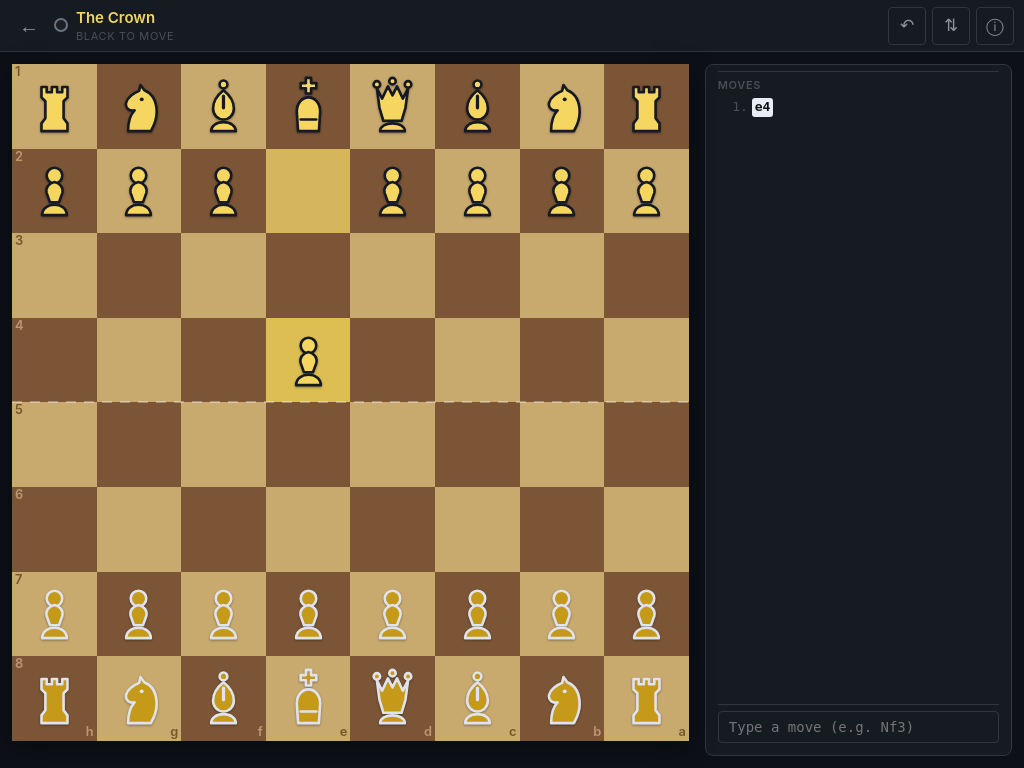
Test case: GameScreen resume and undo › undo takes back the last move and tells the app
Click the button with test id "undo-btn": (907, 26) [888,6,926,44]
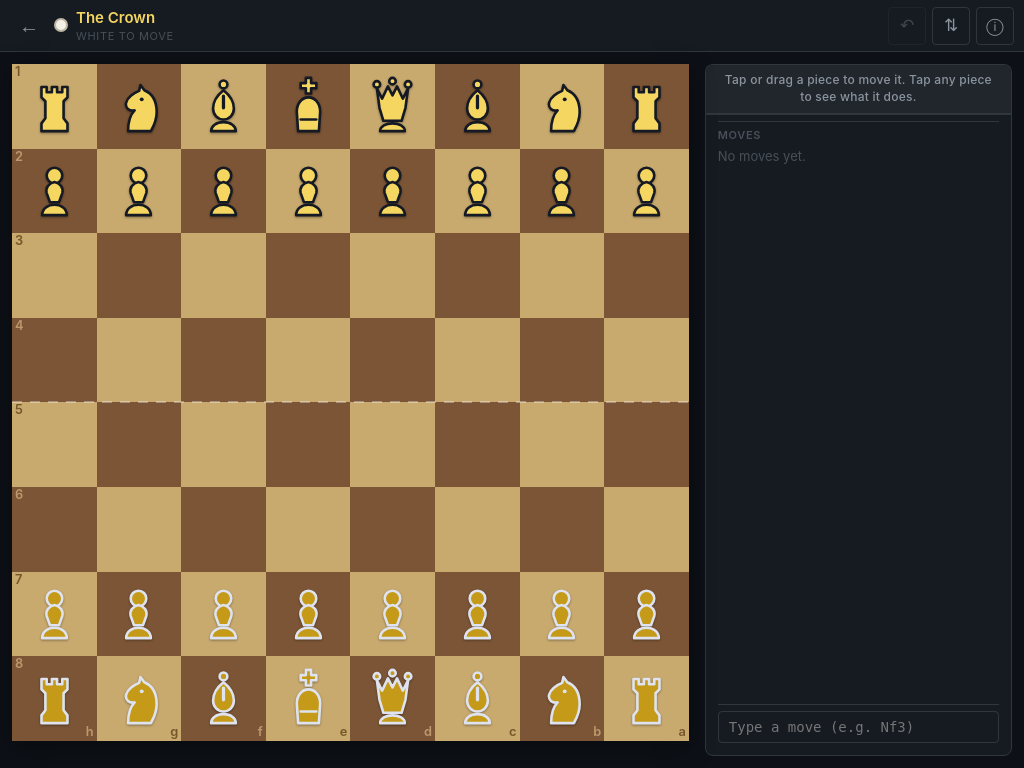
Expected: the text "White to move" is shown, [76,29,174,44]
Expected: no elements with class "move-san" are shown
Expected: the button with test id "undo-btn" is disabled, [888,6,926,44]
